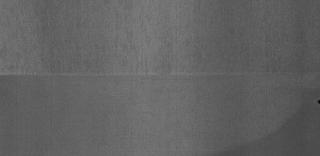punching hole: (316, 98, 320, 104)
welding line: (1, 70, 320, 81)
